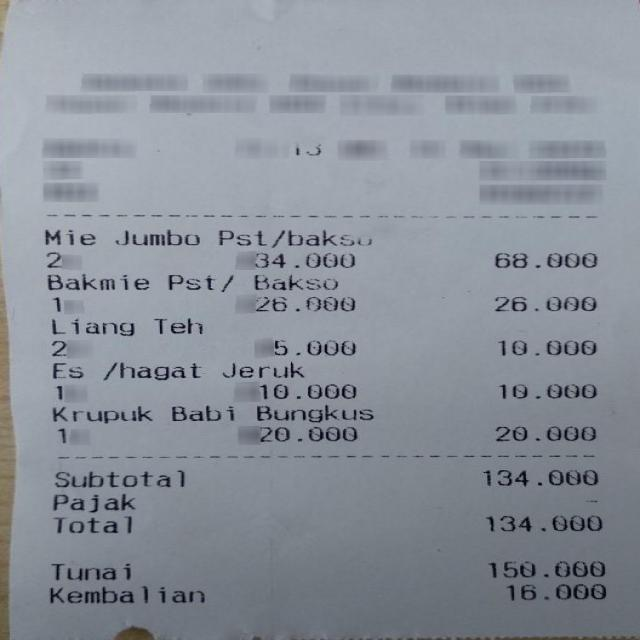text: (48, 583, 202, 602), (217, 229, 368, 248), (52, 468, 182, 486), (254, 403, 370, 422), (100, 360, 198, 380), (52, 403, 149, 422), (485, 514, 600, 530), (252, 251, 354, 269), (488, 560, 602, 576), (483, 468, 595, 484), (253, 295, 353, 311), (248, 272, 336, 290), (51, 514, 130, 534), (504, 583, 602, 599), (51, 493, 131, 512), (498, 339, 594, 354), (258, 382, 354, 397), (46, 274, 146, 288), (495, 252, 595, 266), (494, 296, 594, 310), (494, 425, 594, 439), (114, 228, 196, 245), (258, 426, 355, 440), (498, 383, 595, 397), (50, 318, 131, 334), (219, 361, 302, 376), (50, 563, 127, 579), (272, 339, 352, 354), (166, 274, 230, 290), (171, 405, 231, 420), (152, 318, 204, 334), (44, 229, 93, 244), (52, 362, 80, 377), (44, 252, 62, 268), (51, 340, 63, 355), (56, 426, 66, 443), (51, 296, 62, 311), (53, 385, 63, 399)
